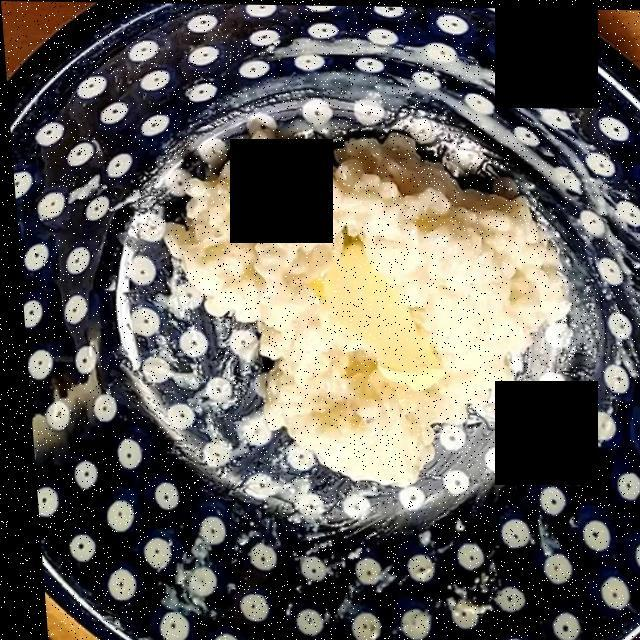butter: (307, 239, 429, 377)
